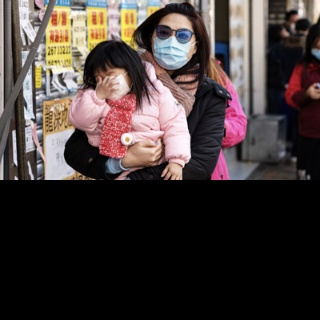with_mask: (151, 24, 196, 70), (94, 69, 130, 100), (309, 43, 320, 60)
